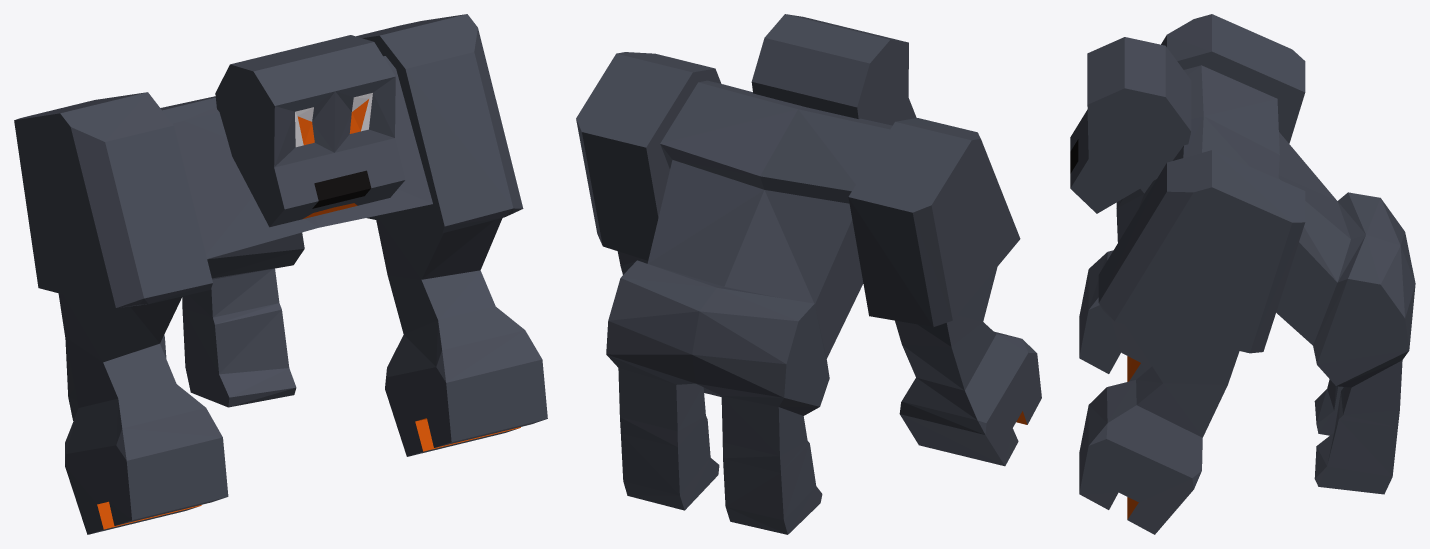
The model's file is kong_000017.obj.
3 renders of one model, left to right at view 1: azimuth 30°, elevation 25°; view 2: azimuth 150°, elevation 25°; view 3: azimuth 270°, elevation 25°, orthographic. The views are drawn at different scales.
Visible parts, largest first — view 1: Cube; view 2: Cube; view 3: Cube.
Part boxes in pixels (box(x1,y1,x2,y2)): Cube: box(14, 14, 547, 534); Cube: box(576, 14, 1041, 534); Cube: box(1070, 14, 1415, 534).
Bounding box in the file's own units: 5.84 × 6.02 × 4.79.
1 material, 1 textured.
